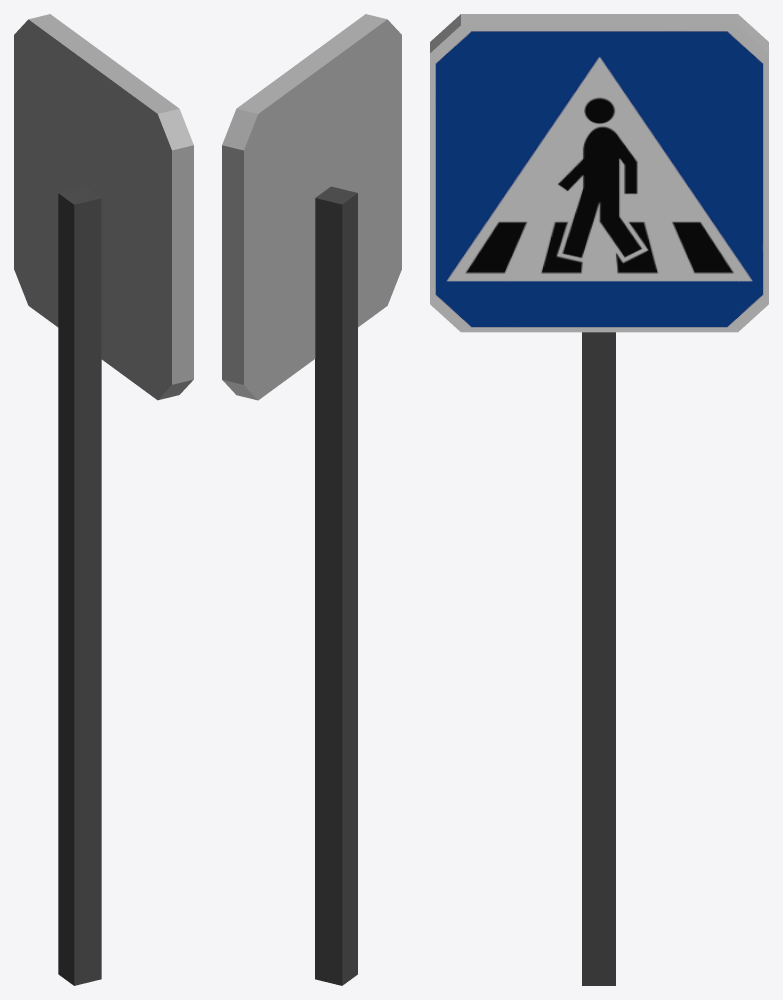
Rendered from Road_sighn.fbx.
3 views of the same model, side by side, from view 1: azimuth 30°, elevation 25°; view 2: azimuth 150°, elevation 25°; view 3: azimuth 270°, elevation 25° (orthographic). The views are drawn at different scales.
Parts seen in each view (by area): view 1: _T_Park_Gates_1; view 2: _T_Park_Gates_1; view 3: _T_Park_Gates_1.
Part boxes in pixels (<box>): _T_Park_Gates_1: <box>14,14,193,985</box>; _T_Park_Gates_1: <box>222,14,401,985</box>; _T_Park_Gates_1: <box>430,14,768,985</box>.
Size of the model in its own units: 20.38 by 362 by 114.
